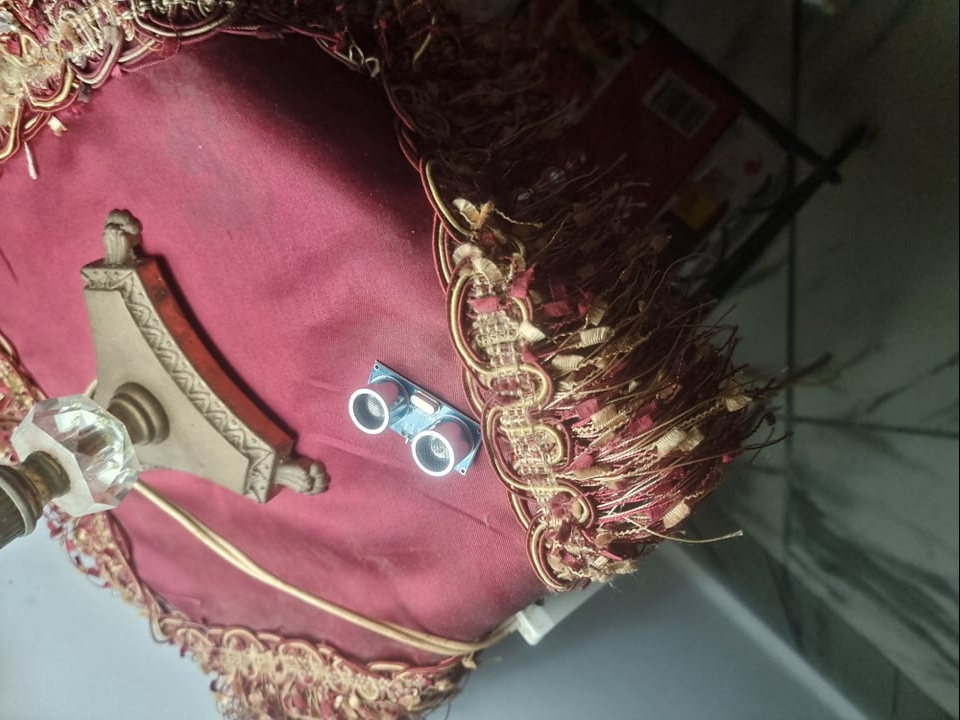SENSOR: (347, 359, 486, 479)
